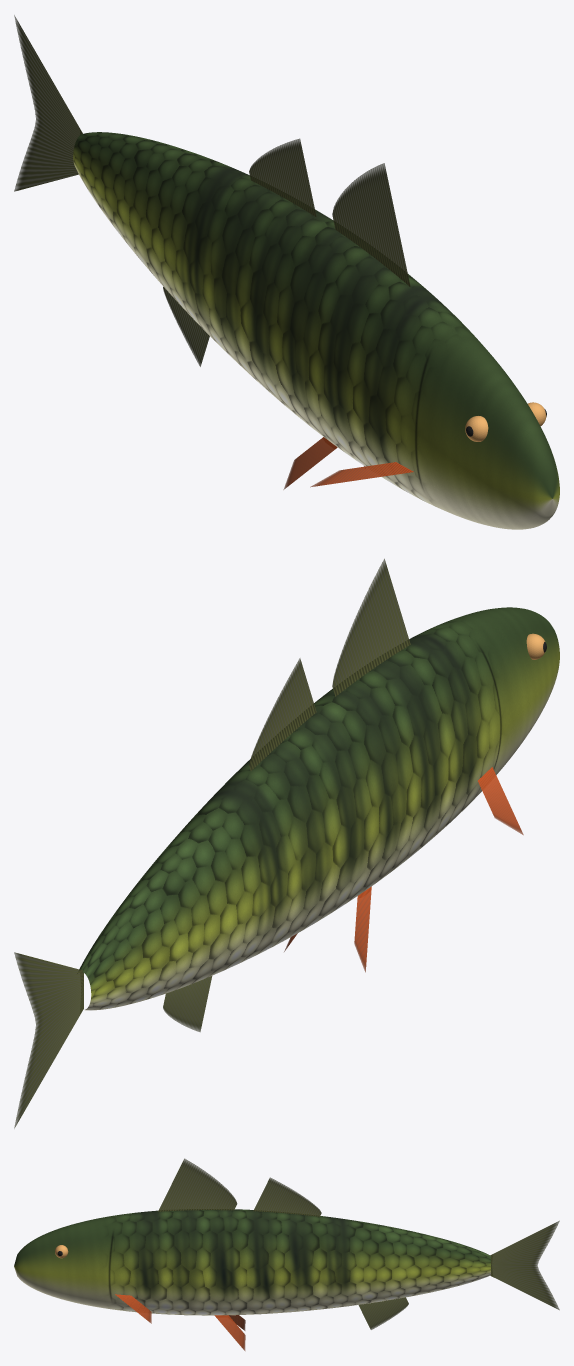
Rendered from okun.glb.
The picture shows the model from 3 angles, top to bottom: view 1: azimuth 30°, elevation 25°; view 2: azimuth 150°, elevation 25°; view 3: azimuth 270°, elevation 25°; orthographic projection. The views are drawn at different scales.
Parts seen in each view (by area): view 1: body, fin_tail, fin_dorsal0, fin_dorsal1, fin_anal0, fin_pect_R, fin_pelv_R; view 2: body, fin_tail, fin_dorsal0, fin_dorsal1, fin_anal0, fin_pect_R, fin_pelv_R; view 3: body, fin_tail, fin_dorsal0, fin_dorsal1, fin_anal0, fin_pelv_L, fin_pect_L.
Boxes of the visible parts, left/top/right/bottom form: body: left=73, top=132, right=559, bottom=529; fin_tail: left=14, top=15, right=82, bottom=191; fin_dorsal0: left=332, top=163, right=410, bottom=286; fin_dorsal1: left=249, top=138, right=316, bottom=216; fin_anal0: left=163, top=287, right=209, bottom=366; fin_pect_R: left=310, top=462, right=413, bottom=487; fin_pelv_R: left=283, top=437, right=337, bottom=489; body: left=79, top=607, right=559, bottom=1010; fin_tail: left=14, top=952, right=83, bottom=1128; fin_dorsal0: left=332, top=558, right=410, bottom=696; fin_dorsal1: left=249, top=658, right=316, bottom=770; fin_anal0: left=163, top=976, right=212, bottom=1031; fin_pect_R: left=478, top=767, right=523, bottom=835; fin_pelv_R: left=354, top=886, right=371, bottom=972; body: left=14, top=1209, right=490, bottom=1315; fin_tail: left=490, top=1220, right=559, bottom=1310; fin_dorsal0: left=158, top=1158, right=237, bottom=1211; fin_dorsal1: left=253, top=1177, right=321, bottom=1216; fin_anal0: left=358, top=1297, right=408, bottom=1329; fin_pelv_L: left=214, top=1315, right=245, bottom=1350; fin_pect_L: left=115, top=1294, right=151, bottom=1323.
Size of the model in its own units: 0.069 by 0.111 by 0.3.
Materials: 5 (3 with a texture image).
